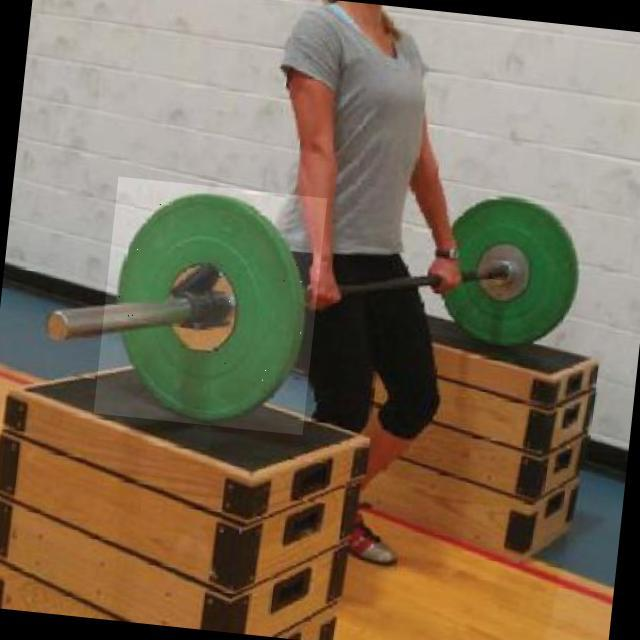barbell: (94, 177, 328, 436)
